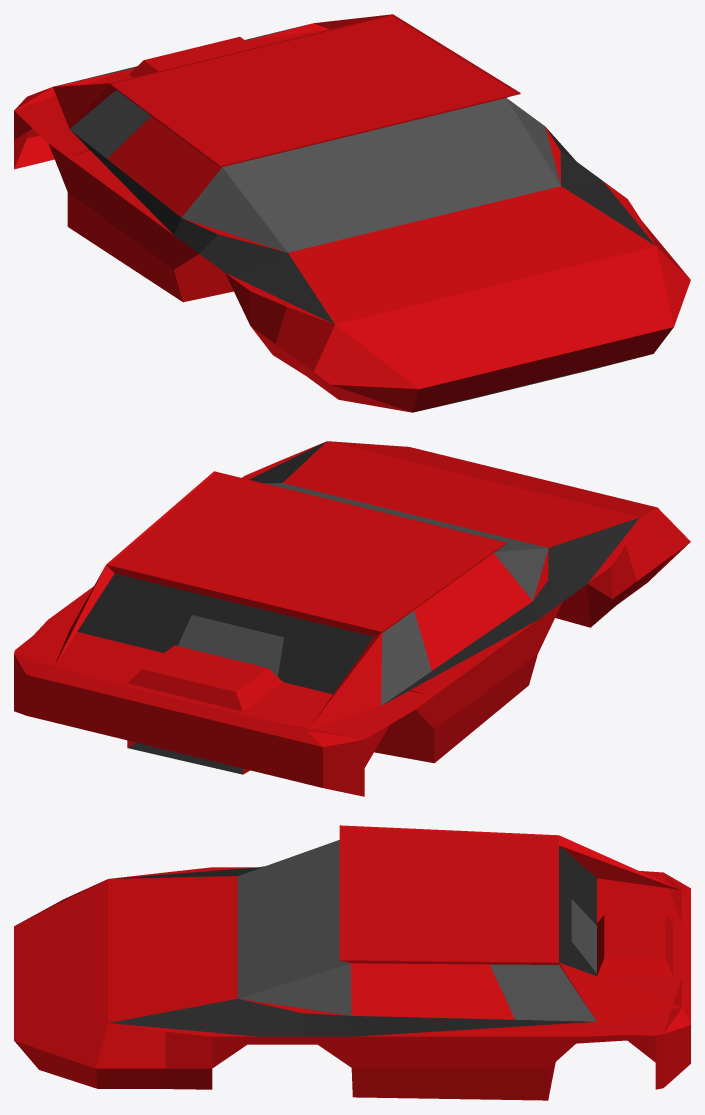
Rendered from Auto.fbx.
The picture shows the model from 3 angles, top to bottom: view 1: azimuth 30°, elevation 25°; view 2: azimuth 150°, elevation 25°; view 3: azimuth 270°, elevation 25°; orthographic projection. The views are drawn at different scales.
Parts seen in each view (by area): view 1: Auto; view 2: Auto; view 3: Auto.
Part boxes in pixels (x1,y1,x2,y2): Auto: (14,14,690,412); Auto: (14,441,690,796); Auto: (14,825,690,1100).
Size of the model in its own units: 791 by 274 by 1336.
